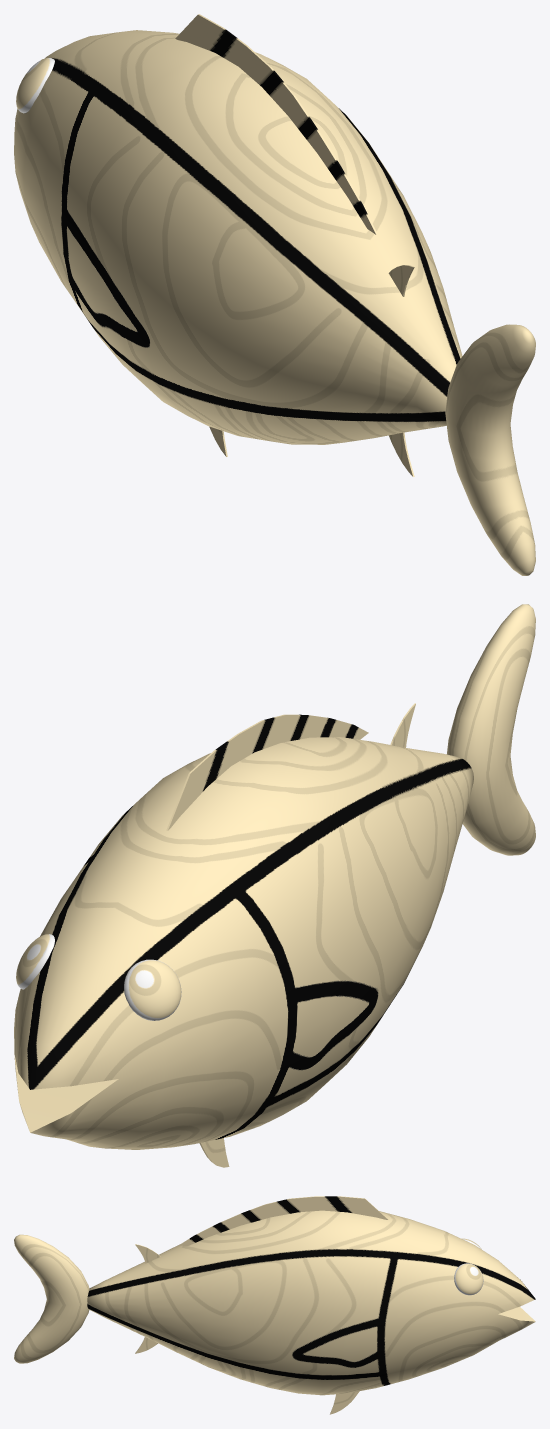
File: woodMaguro.fbx
The picture shows the model from 3 angles, top to bottom: view 1: azimuth 30°, elevation 25°; view 2: azimuth 150°, elevation 25°; view 3: azimuth 270°, elevation 25°; orthographic projection. The views are drawn at different scales.
Visible parts, largest first — view 1: Sphere, Sphere.001, Plane, Sphere.002, Plane.001; view 2: Sphere, Sphere.001, Plane, Sphere.002; view 3: Sphere, Sphere.001, Plane, Sphere.002, Plane.001, Plane.002.
Boxes of the visible parts, x1,y1,x2,y2 form: Sphere: (14, 30, 462, 444); Sphere.001: (445, 324, 535, 575); Plane: (175, 14, 377, 234); Sphere.002: (16, 58, 54, 113); Plane.001: (388, 265, 414, 476); Sphere: (14, 737, 473, 1149); Sphere.001: (447, 604, 535, 855); Plane: (166, 714, 368, 830); Sphere.002: (16, 934, 181, 1020); Sphere: (87, 1210, 535, 1395); Sphere.001: (14, 1234, 89, 1363); Plane: (179, 1196, 388, 1245); Sphere.002: (454, 1238, 483, 1295); Plane.001: (135, 1244, 160, 1353); Plane.002: (330, 1391, 359, 1414).
Bounding box in the file's own units: 1.47 × 2.43 × 5.24.
1 material, 1 textured.
